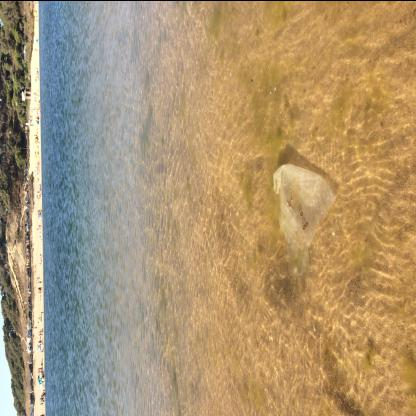plastik: (272, 162, 336, 276)
